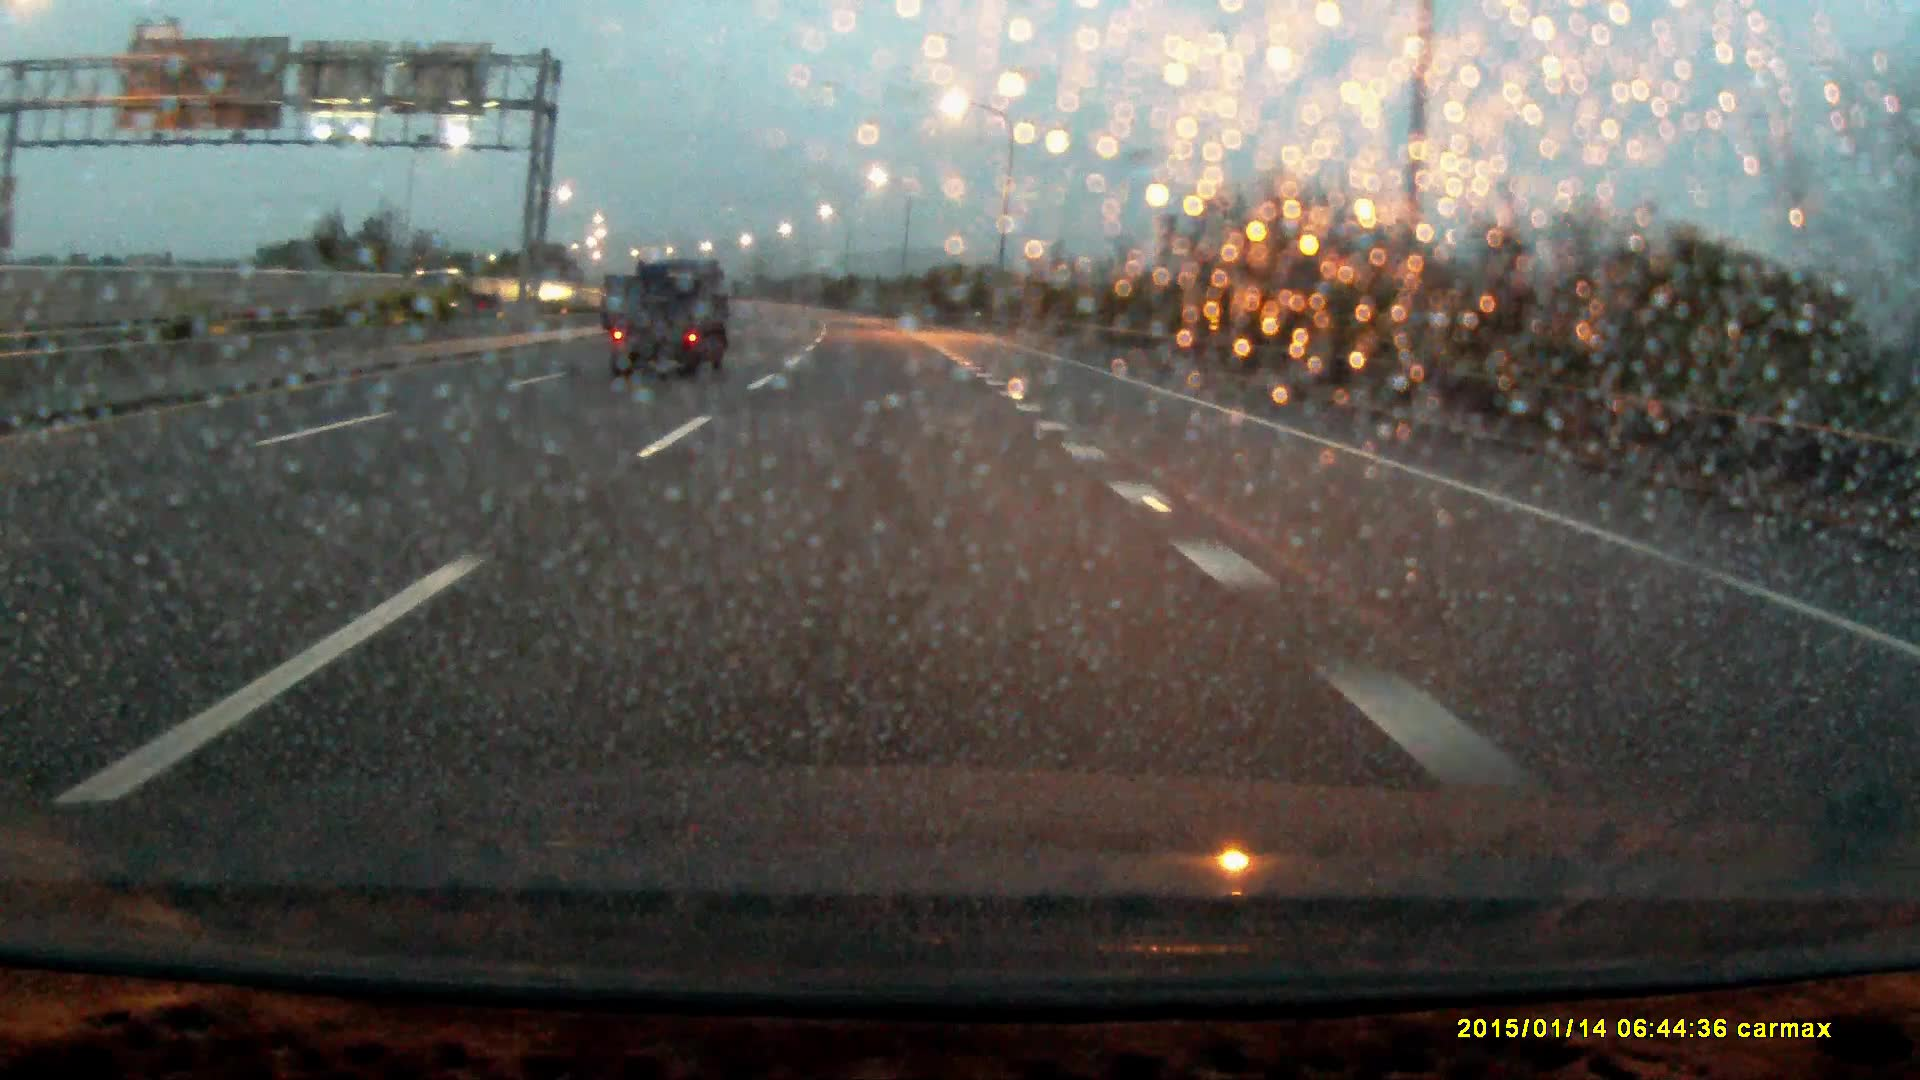vehicle: (608, 258, 733, 380), (414, 266, 514, 315)
